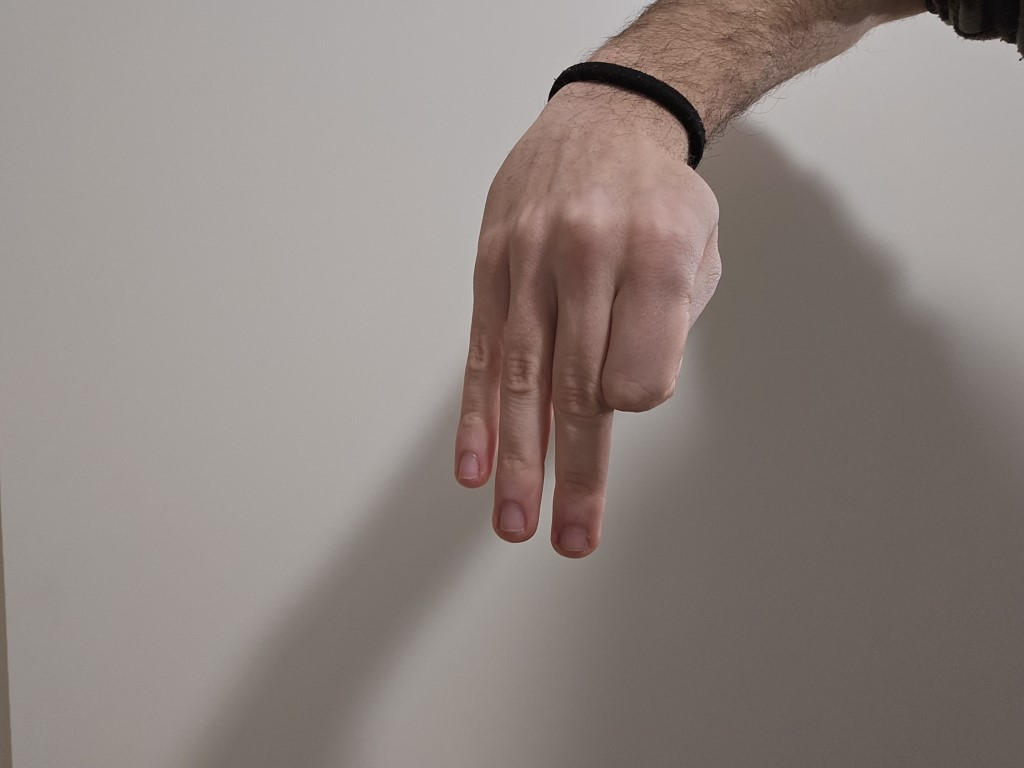m: (424, 90, 756, 587)
